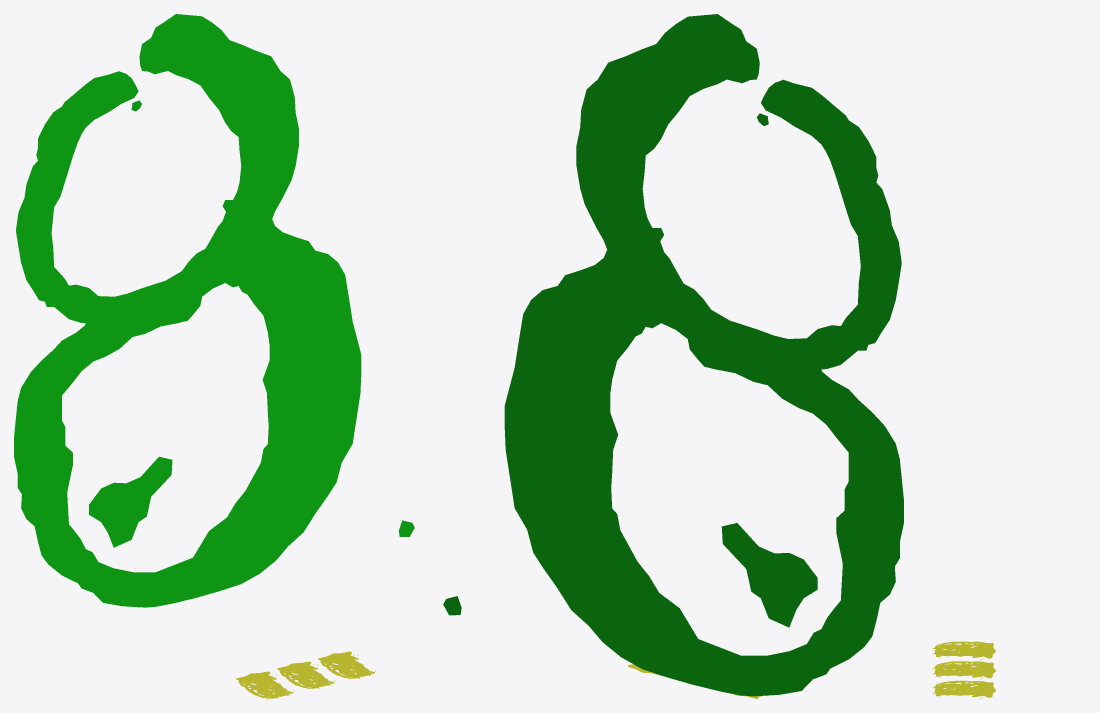
Rendered from hseight.obj.
3 renders of one model, left to right at view 1: azimuth 30°, elevation 25°; view 2: azimuth 150°, elevation 25°; view 3: azimuth 270°, elevation 25°, orthographic. The views are drawn at different scales.
Visible parts, largest first — view 1: hseight.008; view 2: hseight.008; view 3: no part large enough to name.
Part boxes in pixels (x1,y1,x2,y2): hseight.008: (14,14,414,607); hseight.008: (443,14,903,696).
Size of the model in its own units: 0.3898 by 0.5886 by 0.1315.
